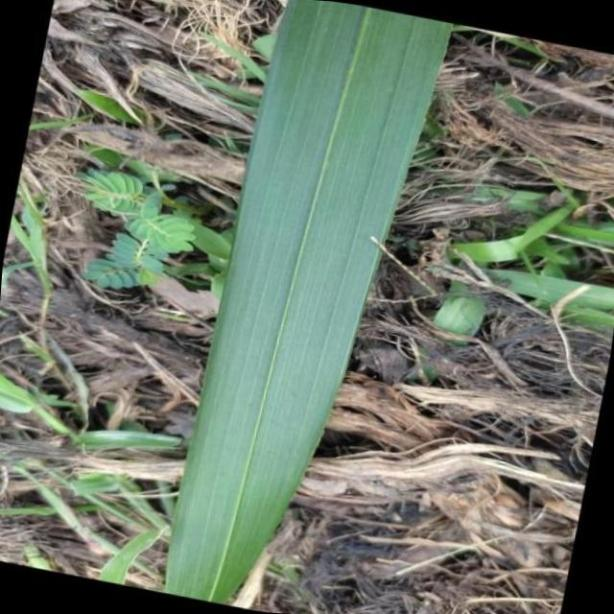Healthy: (164, 0, 452, 614)
